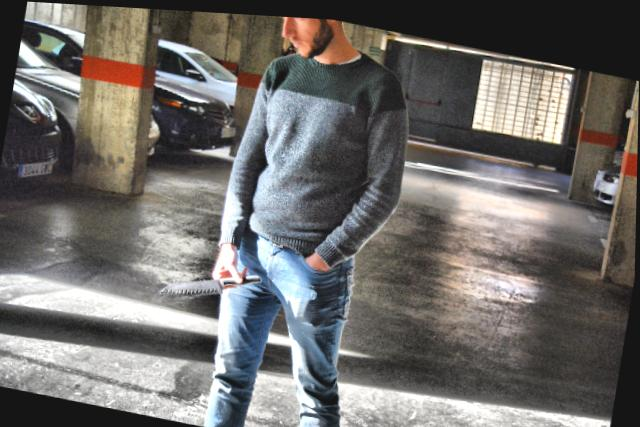knife: (155, 250, 265, 314)
